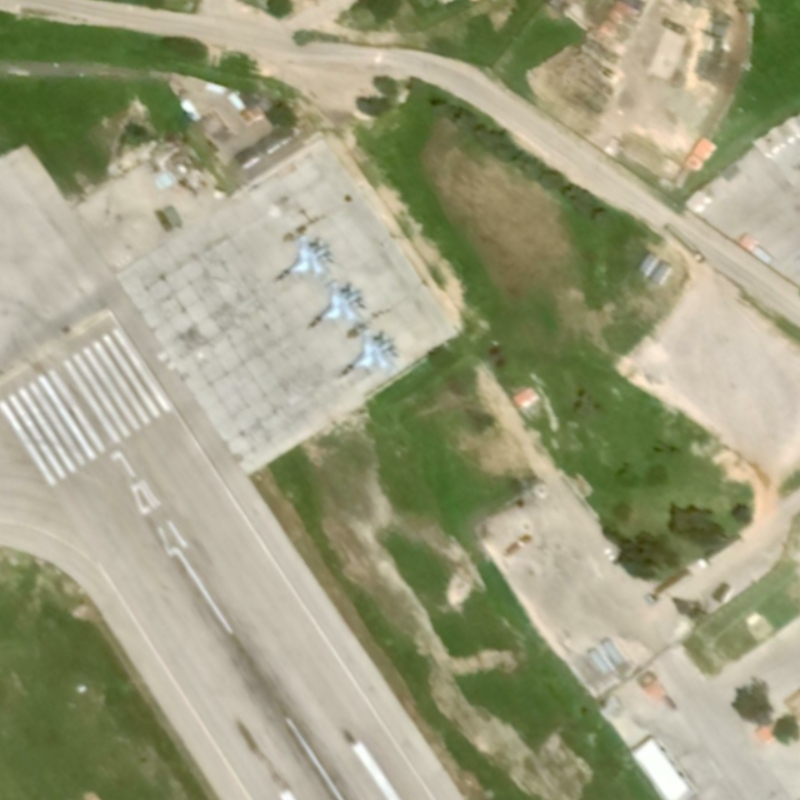A1: (331, 331, 403, 385), (302, 280, 369, 331), (271, 232, 337, 281)
